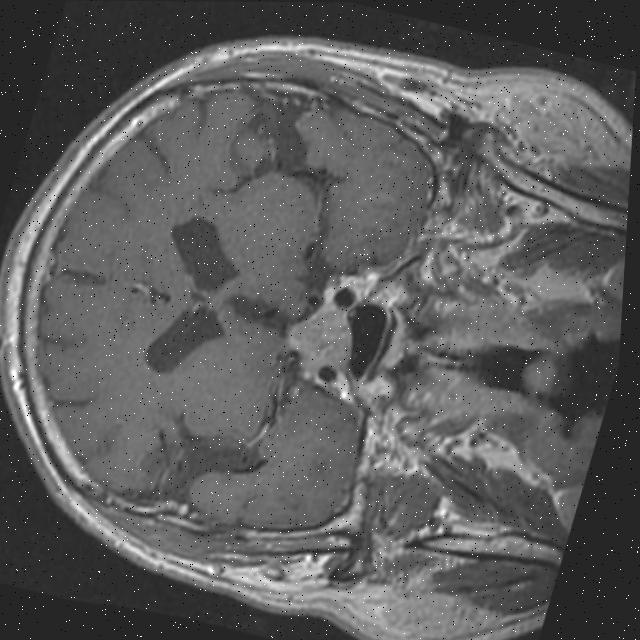Pituitary: (279, 296, 366, 372)
